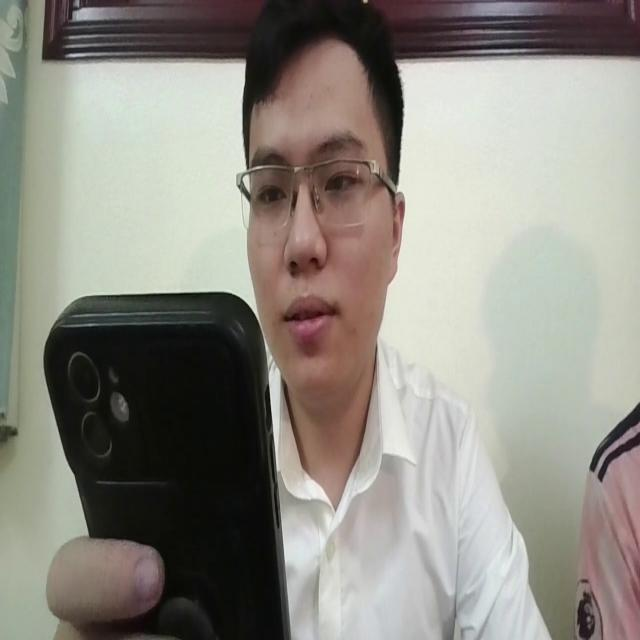phone: (46, 288, 286, 640)
student: (239, 0, 553, 640)
